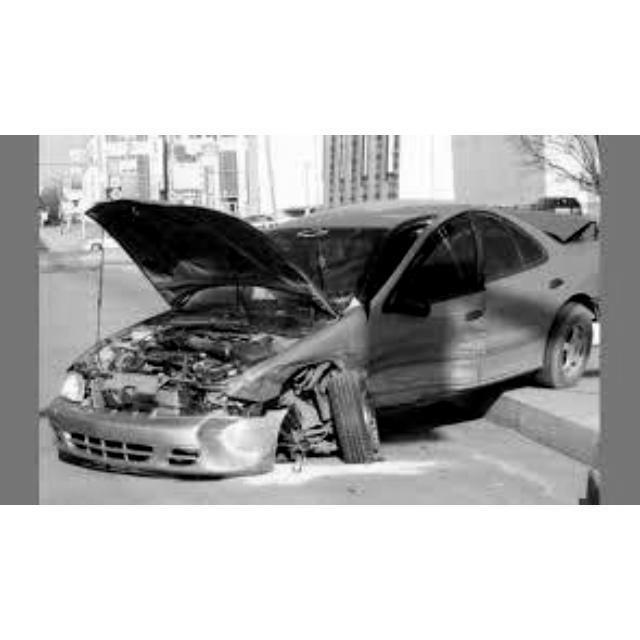doorouter-dent: (367, 309, 475, 406)
fender-dent: (239, 322, 351, 391)
front-bumper-dent: (99, 411, 276, 478)
